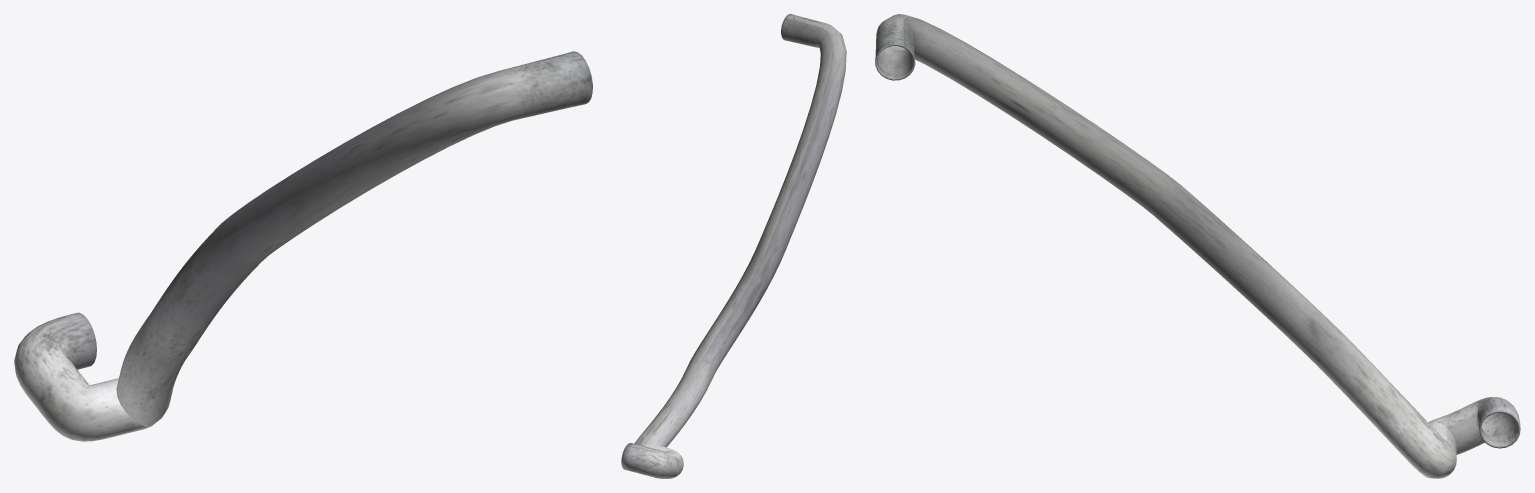
The model's file is intercooler_manifold_weber_tube.fbx.
3 renders of one model, left to right at view 1: azimuth 30°, elevation 25°; view 2: azimuth 150°, elevation 25°; view 3: azimuth 270°, elevation 25°, orthographic. The views are drawn at different scales.
Parts seen in each view (by area): view 1: intercooler_manifold_weber_tube; view 2: intercooler_manifold_weber_tube; view 3: intercooler_manifold_weber_tube.
Boxes of the visible parts, box(x1,y1,x2,y2) form: intercooler_manifold_weber_tube: box(14, 51, 592, 441); intercooler_manifold_weber_tube: box(621, 14, 846, 478); intercooler_manifold_weber_tube: box(875, 14, 1520, 478).
Size of the model in its own units: 16.65 by 55.4 by 70.21.
Materials: 1 (1 with a texture image).
